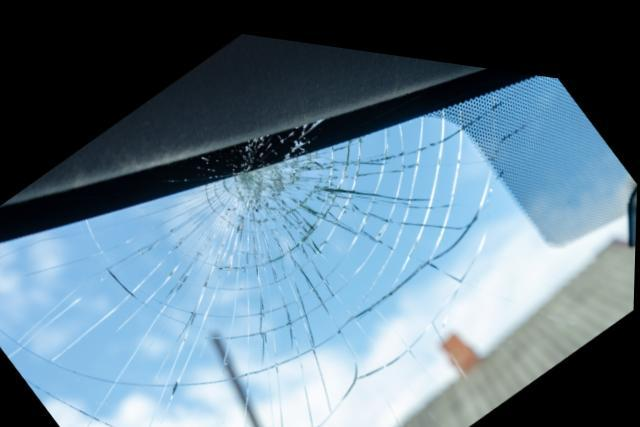glass shatter: (0, 54, 638, 427)
